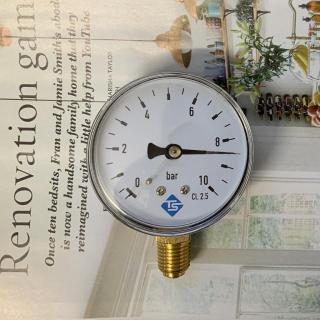gauge: (88, 61, 254, 239), (196, 173, 222, 201), (120, 176, 144, 206), (166, 143, 182, 160), (234, 148, 242, 159)
